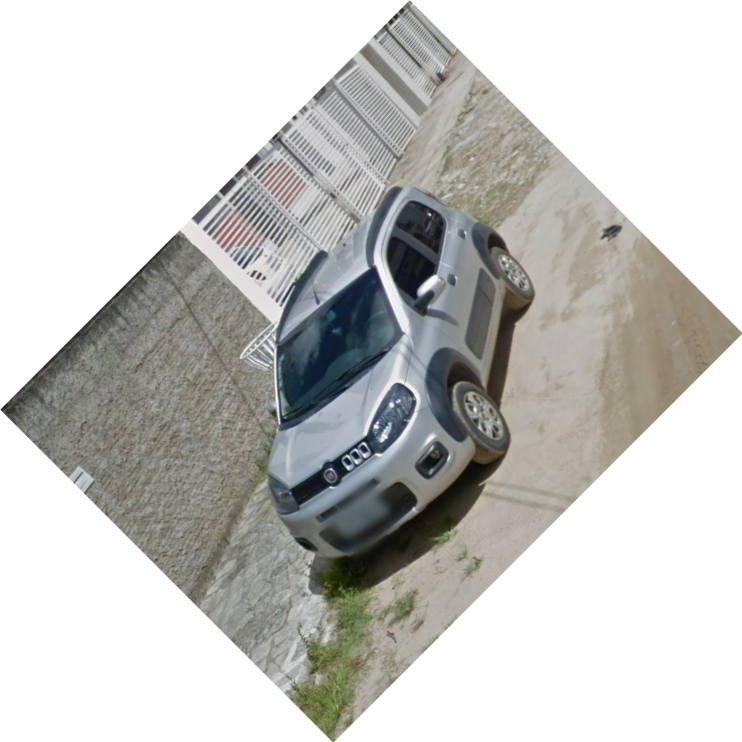car: (266, 183, 539, 577)
